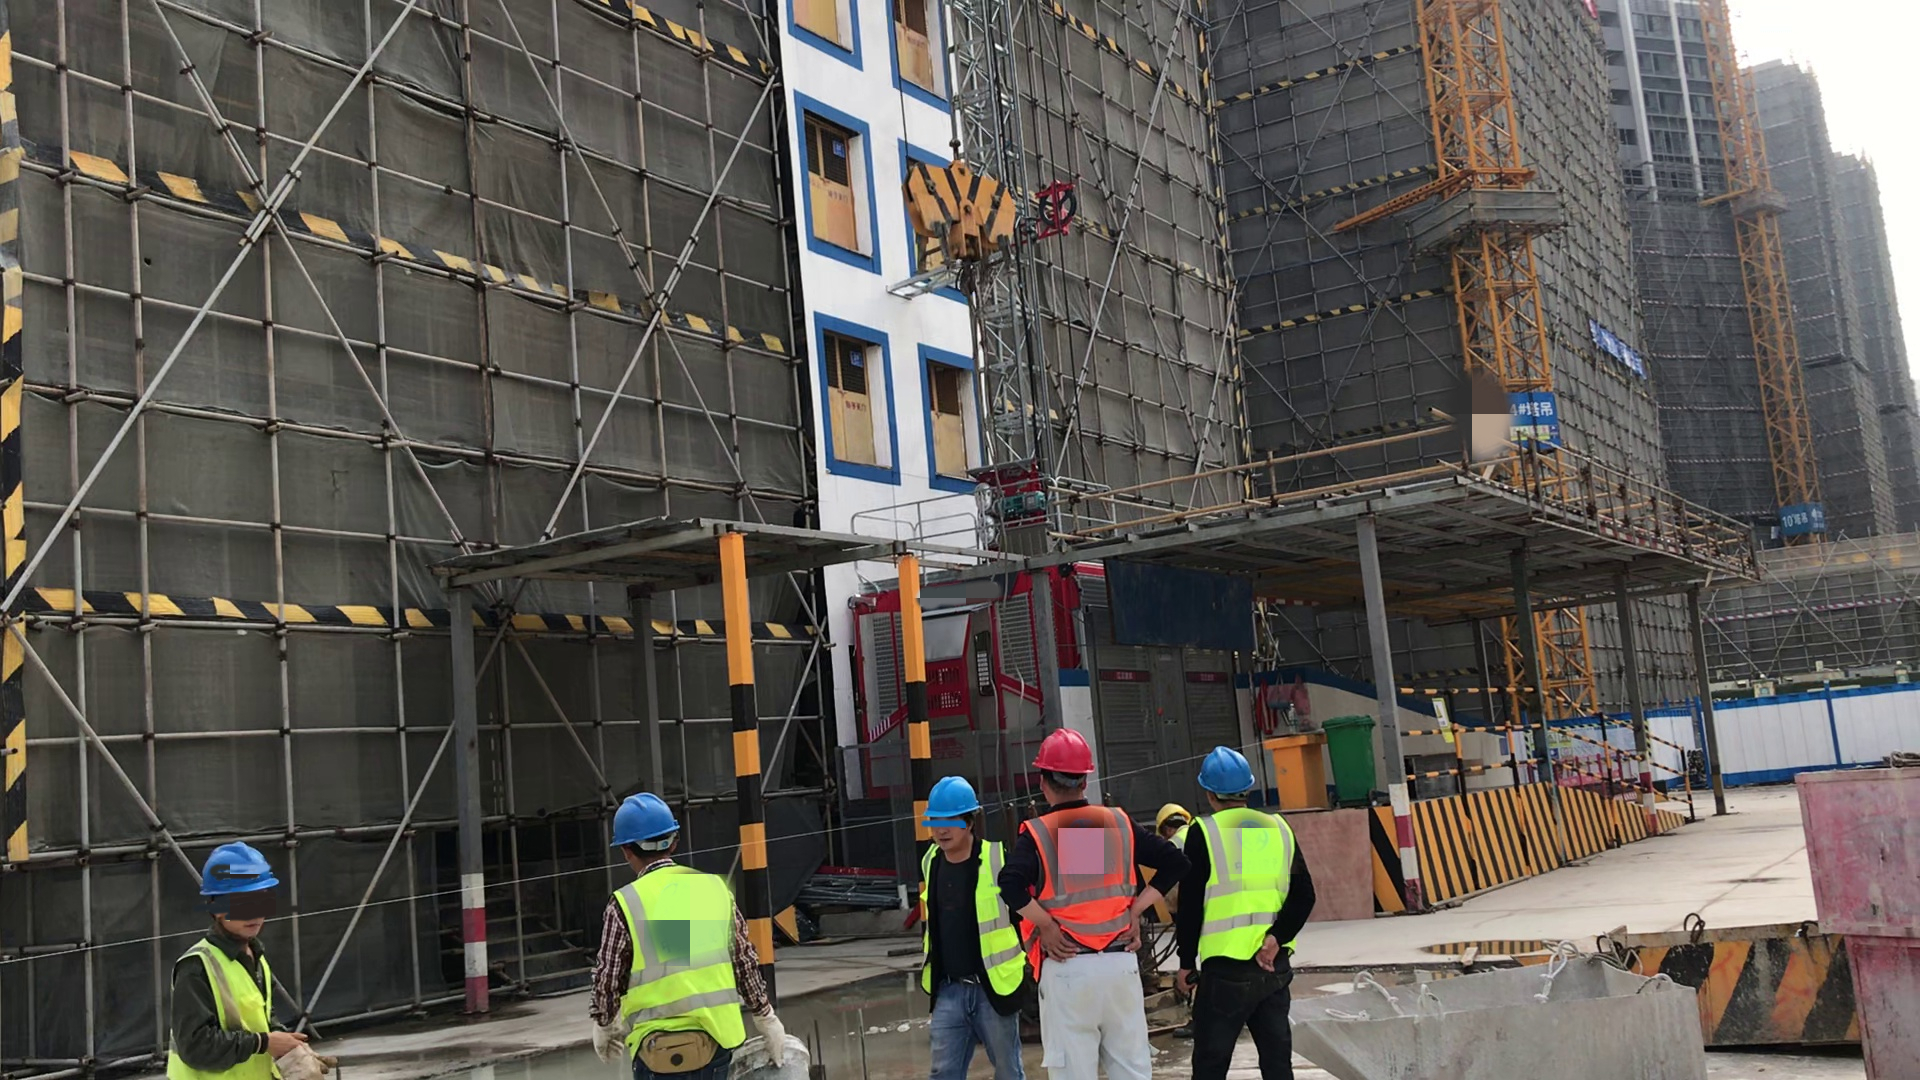fence: (1387, 656, 1716, 789)
helmet: (197, 839, 286, 906), (605, 785, 678, 851), (1025, 733, 1101, 783), (918, 772, 984, 827), (1201, 744, 1262, 800), (1154, 804, 1191, 833)
hook: (885, 143, 1067, 300)
hopper: (1293, 927, 1717, 1080), (1620, 908, 1913, 1073)
person: (588, 791, 790, 1080), (1022, 729, 1184, 1080), (1188, 745, 1318, 1080), (905, 770, 1028, 1079), (163, 832, 307, 1080), (1144, 792, 1207, 852)
slogan: (1559, 286, 1677, 394)
vest: (608, 863, 751, 1080), (912, 839, 1031, 1013), (181, 928, 306, 1080), (1017, 816, 1142, 958), (1204, 806, 1307, 975)
